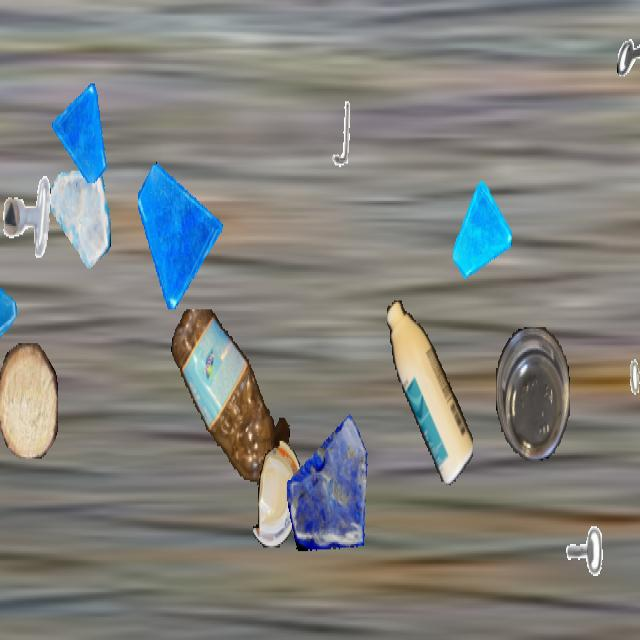glass: (287, 404, 373, 556), (138, 158, 222, 308), (50, 165, 110, 272), (453, 182, 511, 284), (52, 82, 108, 181), (0, 249, 19, 366)
metal: (2, 172, 54, 265), (555, 522, 605, 612), (320, 98, 360, 169), (614, 355, 640, 441), (617, 21, 640, 89)
plastic: (168, 310, 292, 483), (387, 300, 473, 486), (496, 327, 570, 459), (253, 441, 303, 547)
wood: (0, 343, 58, 457)
